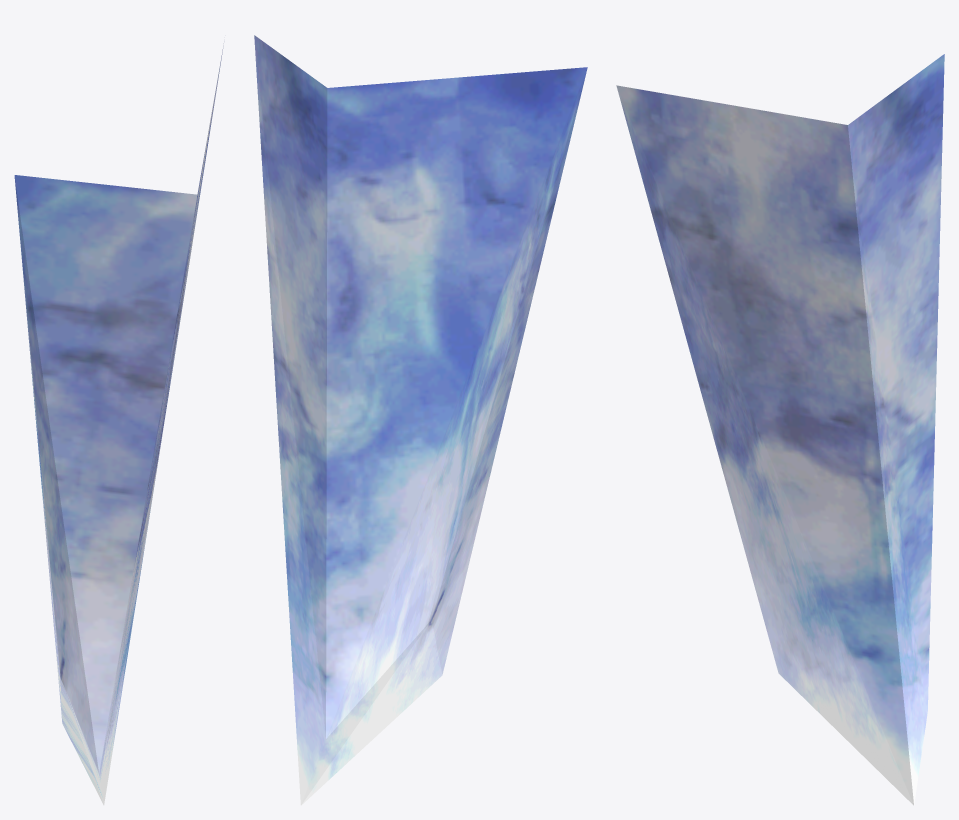
Rendered from icestalagmite04.glb.
The picture shows the model from 3 angles, left to right: view 1: azimuth 30°, elevation 25°; view 2: azimuth 150°, elevation 25°; view 3: azimuth 270°, elevation 25°; orthographic projection. The views are drawn at different scales.
Visible parts, largest first — view 1: icestalagmite04; view 2: icestalagmite04; view 3: icestalagmite04.
Part boxes in pixels (left/top/right/bottom): icestalagmite04: left=14, top=41, right=224, bottom=805; icestalagmite04: left=254, top=35, right=587, bottom=805; icestalagmite04: left=616, top=54, right=944, bottom=805.
Bounding box in the file's own units: 1022 × 2722 × 1107.
1 material, 1 textured.
